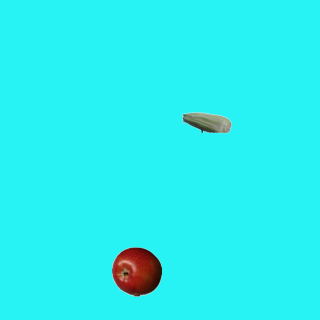Apple Braeburn: (111, 246, 161, 296)
Corn Husk: (181, 97, 231, 147)
